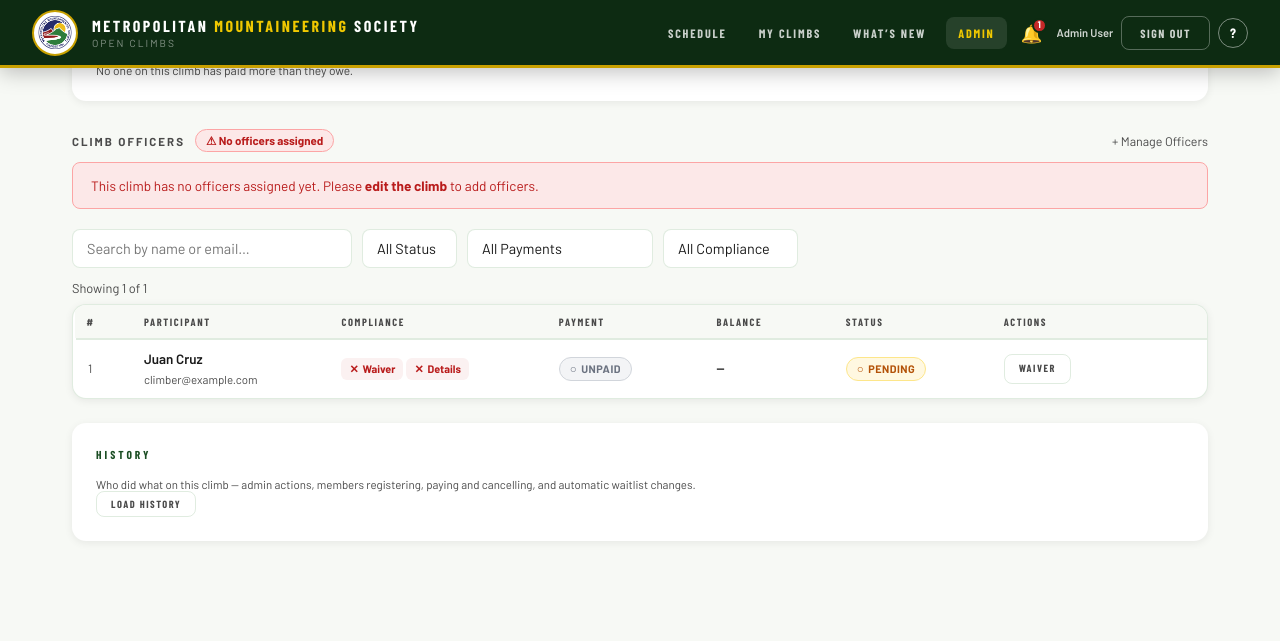
Test: Admin ClimbDetail › offers Record Payment even when nothing has been paid yet
(page scrolled)
Step 1. Click the text "Juan Cruz" → (173, 360), box [144,350,203,370]
(page scrolled)
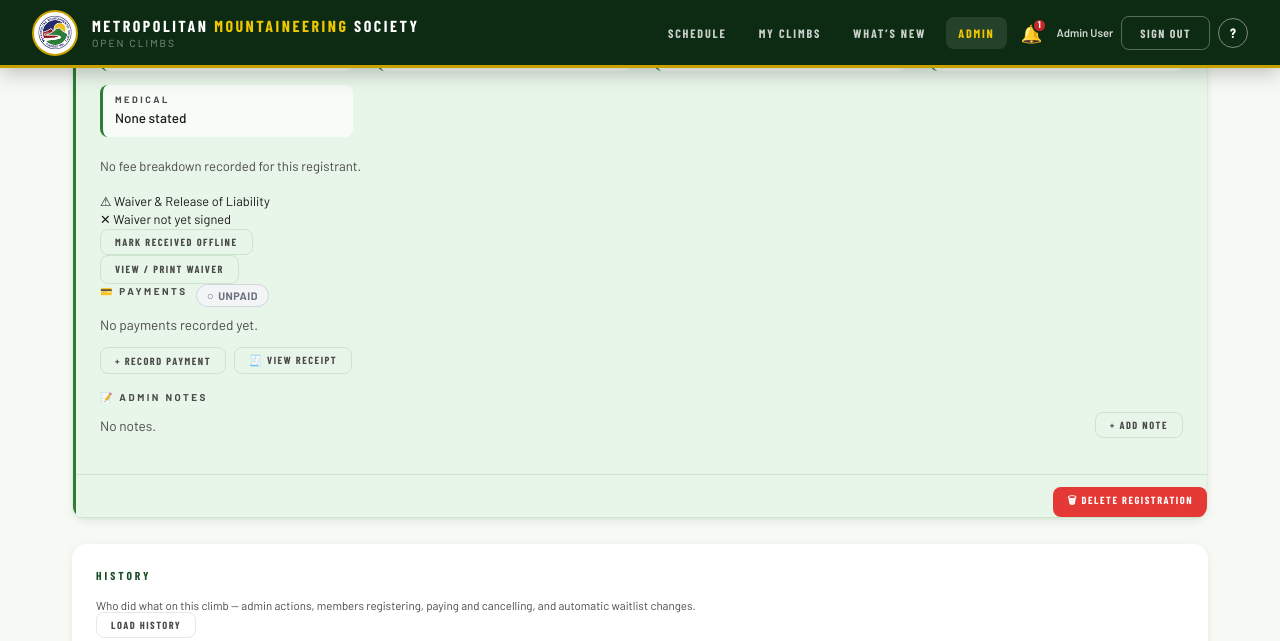
Expected: the text "No payments recorded yet." is shown, [100,316,258,333]
Expected: the button "+ Record Payment" is shown, [100,347,226,374]
